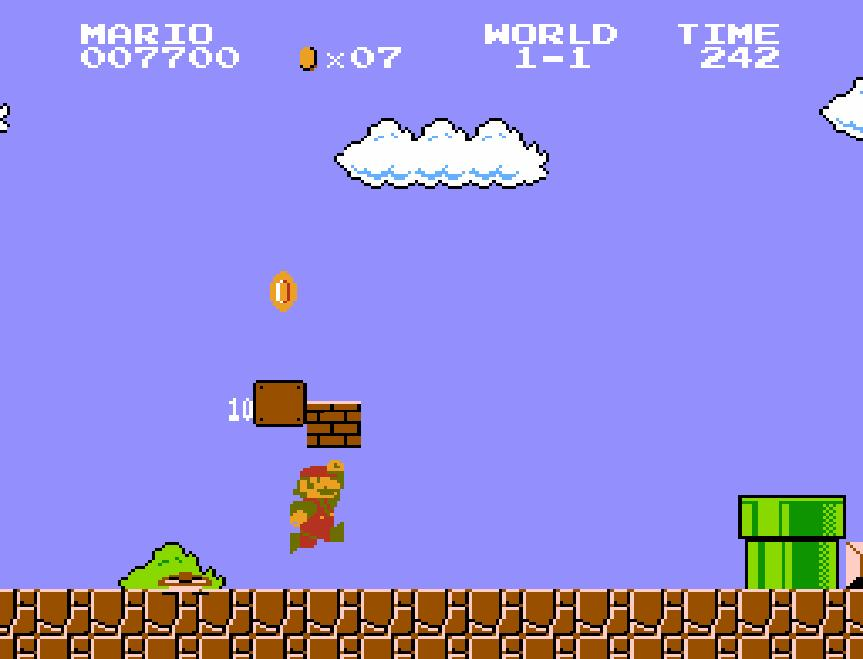big_mario: (288, 458, 346, 556)
